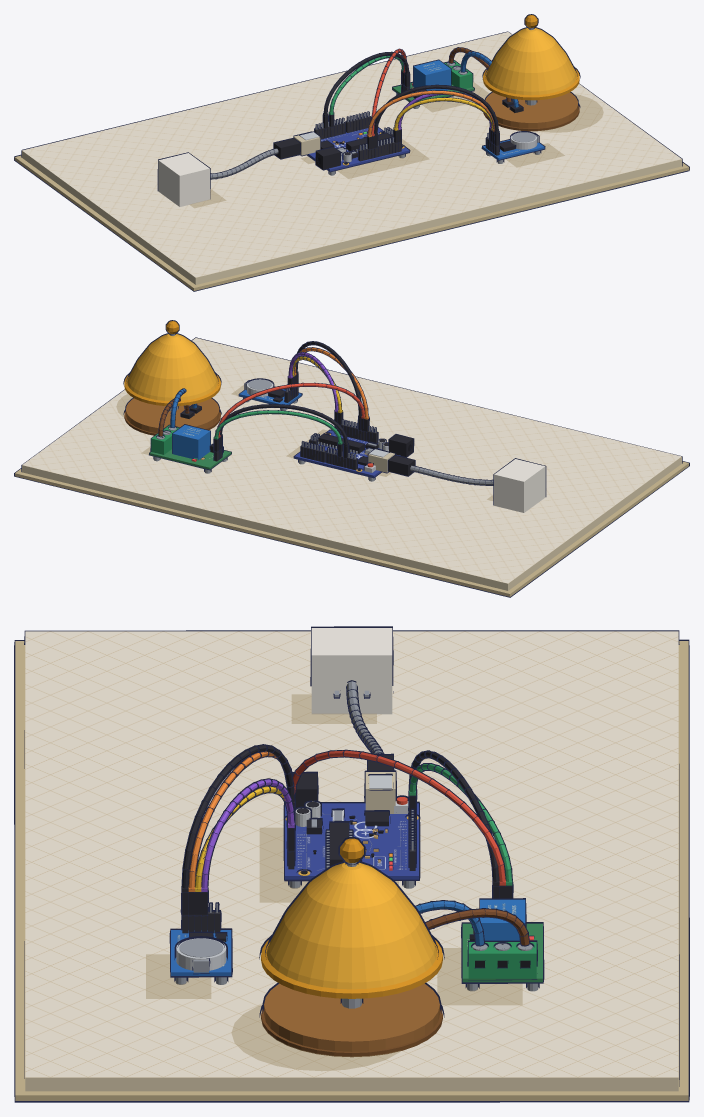
The model's file is timbre3D.glb.
The picture shows the model from 3 angles, top to bottom: view 1: azimuth 30°, elevation 25°; view 2: azimuth 150°, elevation 25°; view 3: azimuth 270°, elevation 25°; orthographic projection. The views are drawn at different scales.
Parts seen in each view (by area): view 1: timbre_escolar; view 2: timbre_escolar; view 3: timbre_escolar.
Boxes of the visible parts, bbox=[...] form: timbre_escolar: bbox=[14, 14, 689, 291]; timbre_escolar: bbox=[14, 320, 689, 597]; timbre_escolar: bbox=[14, 626, 689, 1102].
Bounding box in the file's own units: 0.4291 × 0.0887 × 0.2691.
38 materials, 2 textured.
